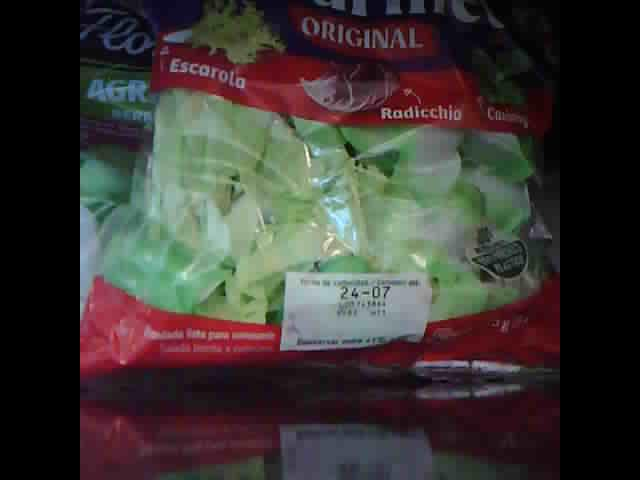florette: (82, 2, 553, 387), (82, 3, 217, 217)
